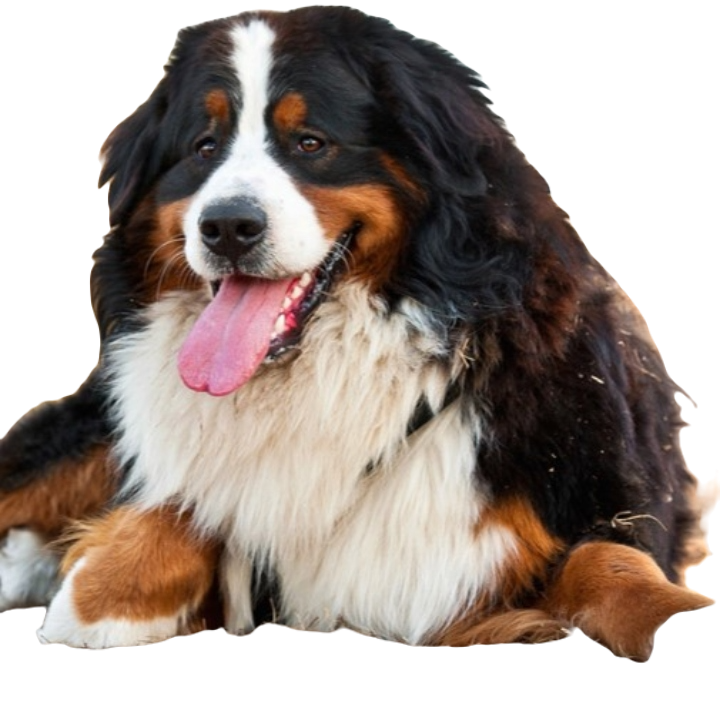Dog: (0, 3, 714, 657)
